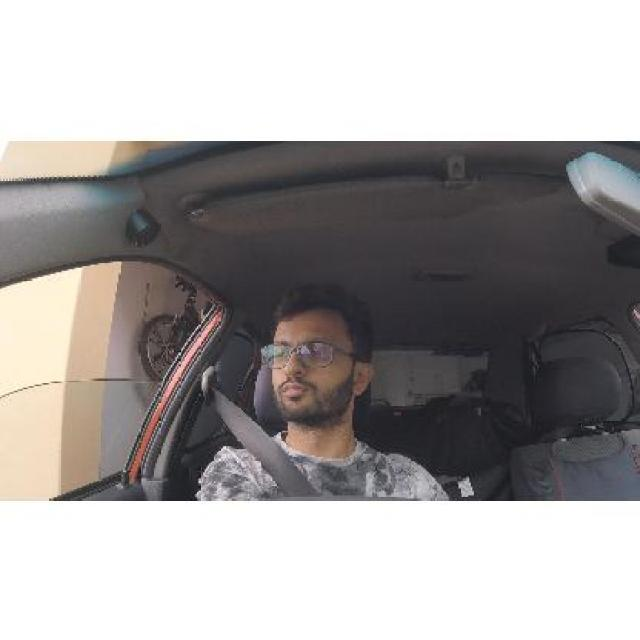LeftRight: (260, 282, 378, 426)
